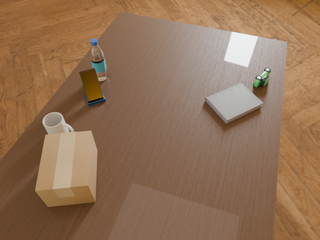book: (205, 83, 263, 124)
bottle: (90, 39, 108, 81)
box: (35, 131, 97, 207)
cup: (43, 112, 73, 134)
phone: (79, 68, 103, 103)
toy_car: (253, 68, 271, 87)
